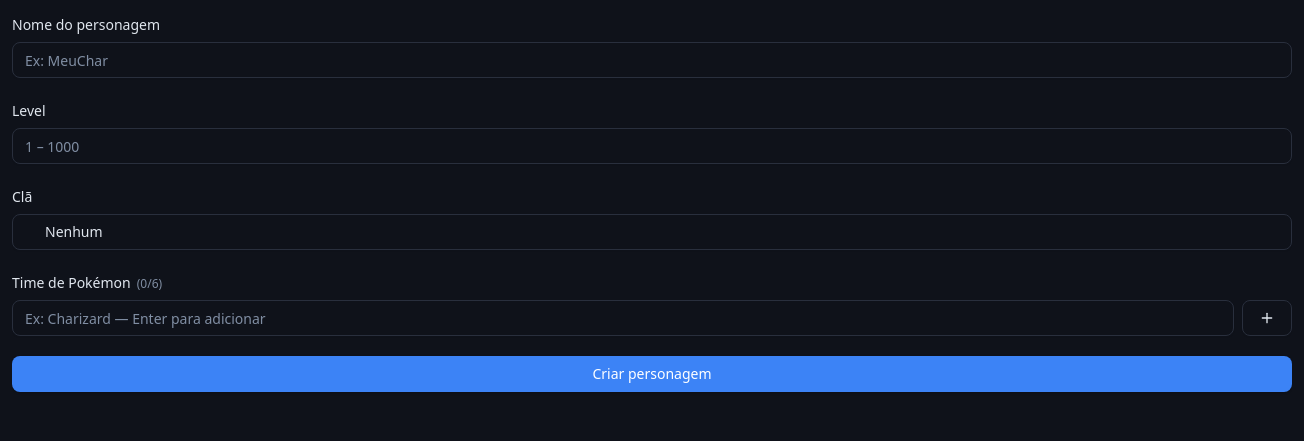
Test: CharacterForm (US02 — AC: Formulário com validação Zod) › Adição de pokémons (tags) › deve remover pokémon ao clicar no X da tag
In the field with placeholder "Ex: Charizard — Enter para adicionar": (623, 318) [12,300,1234,336], type "Pikachu"
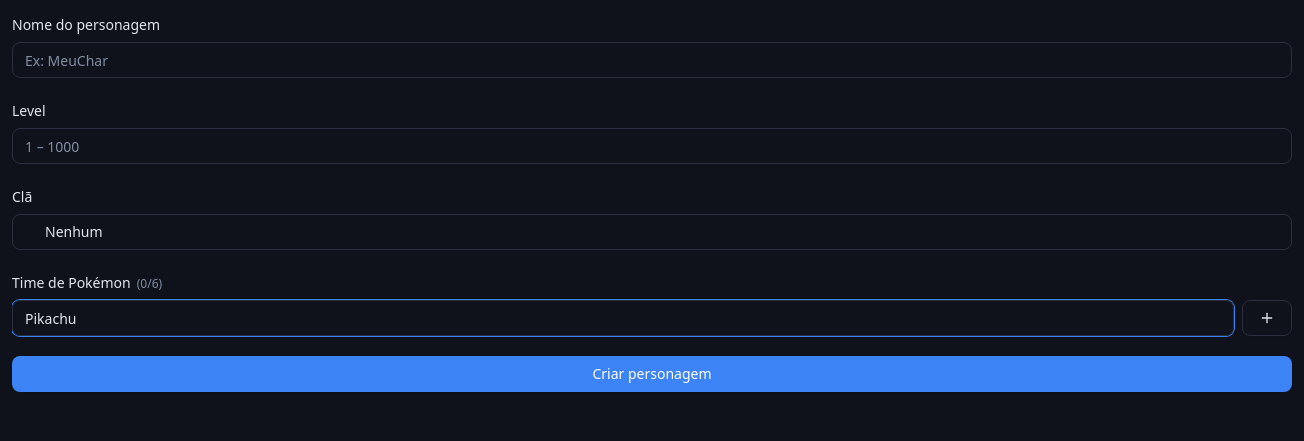
Press Enter
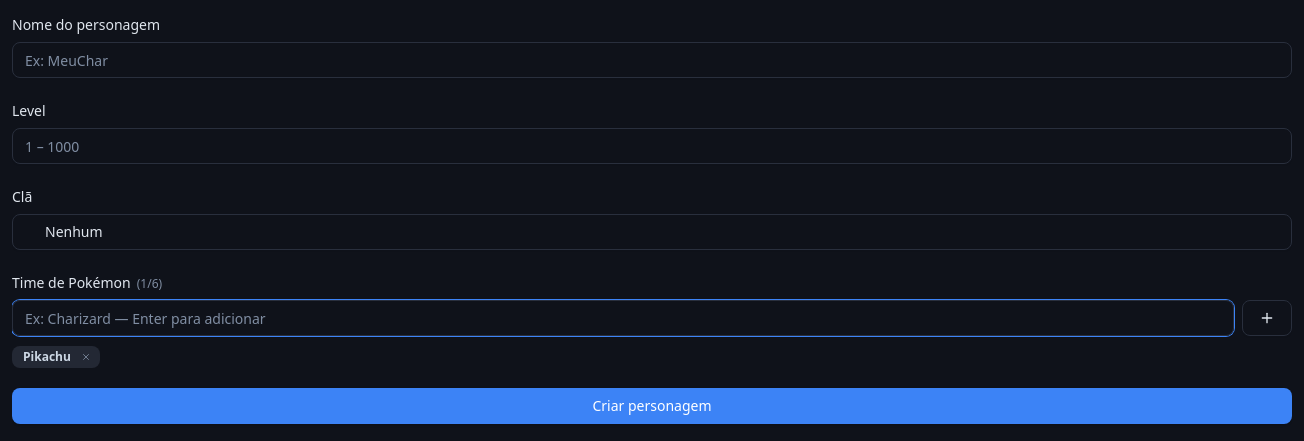
Now the text "Pikachu" is shown, box [12,346,100,368]
Click the button named "Remover Pikachu": (86, 357) [79,350,93,364]
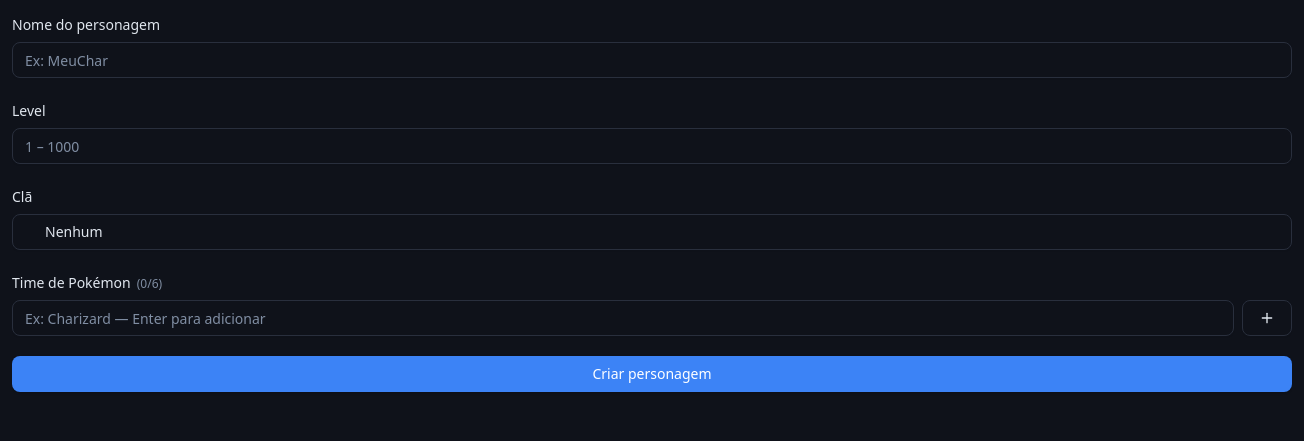
Now the text "Pikachu" is gone
